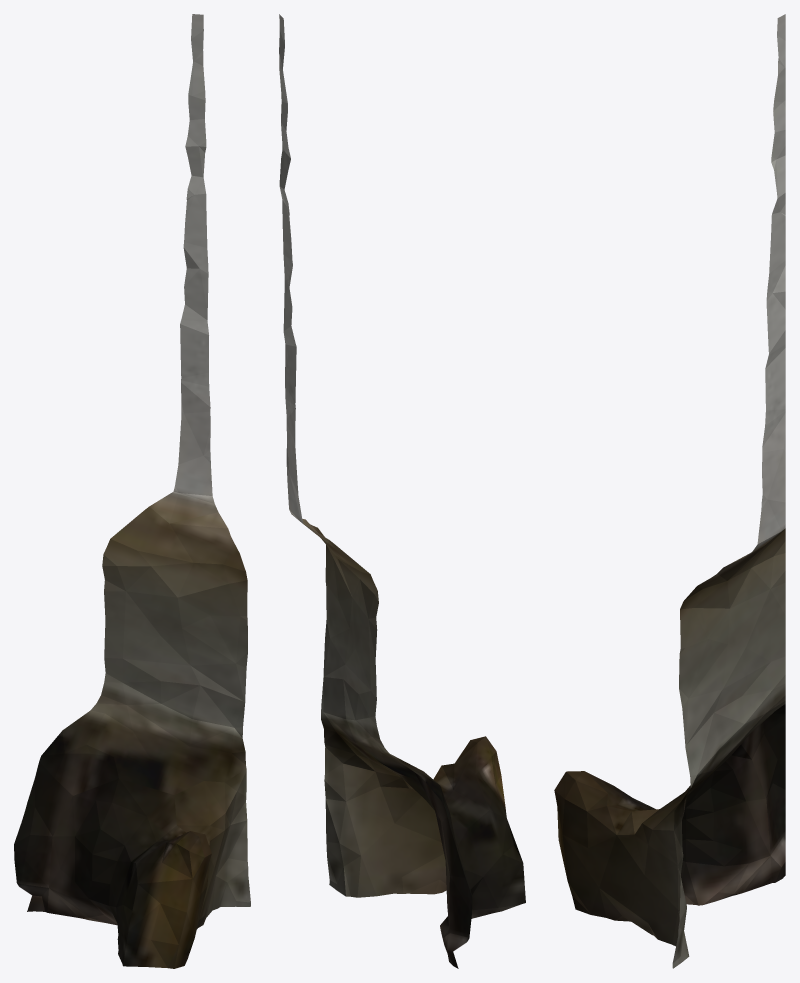
3 views of the same model, side by side, from view 1: azimuth 30°, elevation 25°; view 2: azimuth 150°, elevation 25°; view 3: azimuth 270°, elevation 25° (orthographic). The views are drawn at different scales.
Bounding box in the file's own units: 0.19 × 0.8374 × 0.1846.
1 material, 1 textured.
